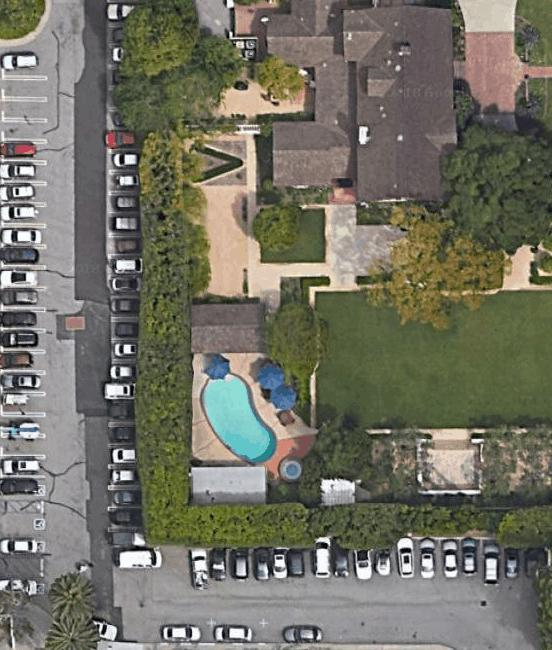parkingspot: (104, 1, 161, 571), (0, 49, 50, 504), (189, 536, 552, 591), (161, 619, 326, 646), (0, 511, 50, 557), (0, 575, 47, 601)
